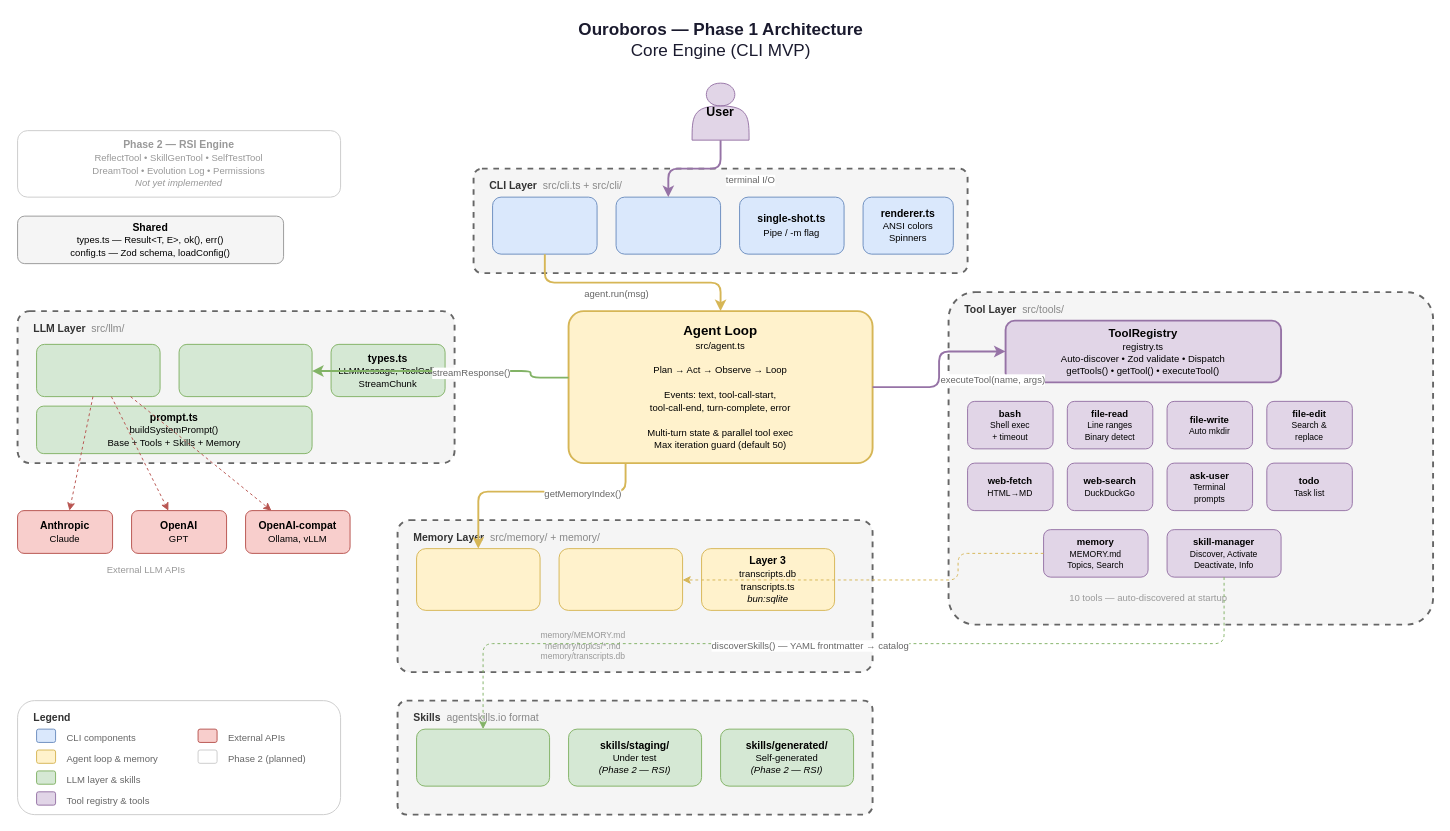
Some shapes in this 1450 by 831 pixel diagram are drawn without their labels. Each missing label, with the centre of its shape:
cli.ts Commander.js Arg parsing: point 544,225
Layer 1 MEMORY.md index.ts Always loaded: point 478,579
Layer 2 topics/*.md topics.ts On demand: point 620,579
provider.ts createProvider() Vercel AI SDK: point 98,370
repl.ts readline REPL History, Ctrl+C: point 668,225
skills/core/ Built-in skills Shipped with Ouroboros: point 483,757
streaming.ts streamResponse() Async iterable chunks: point 245,370
